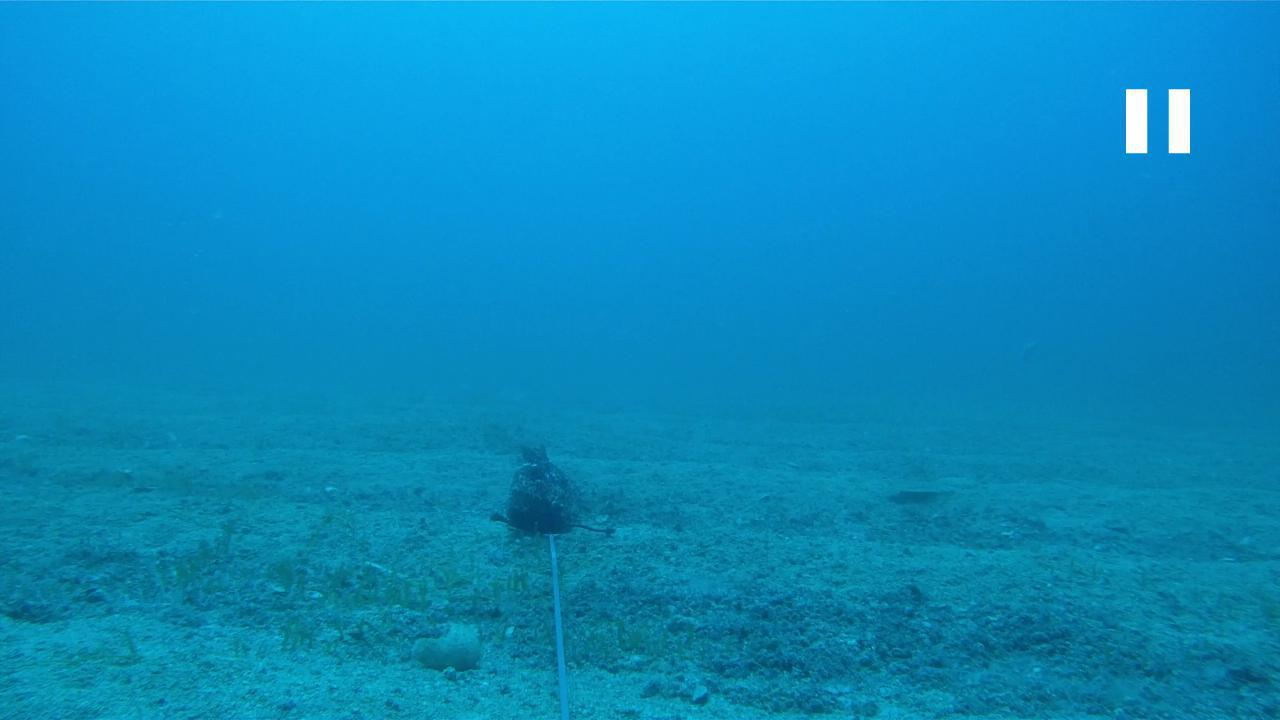bothus: (888, 475, 958, 502)
